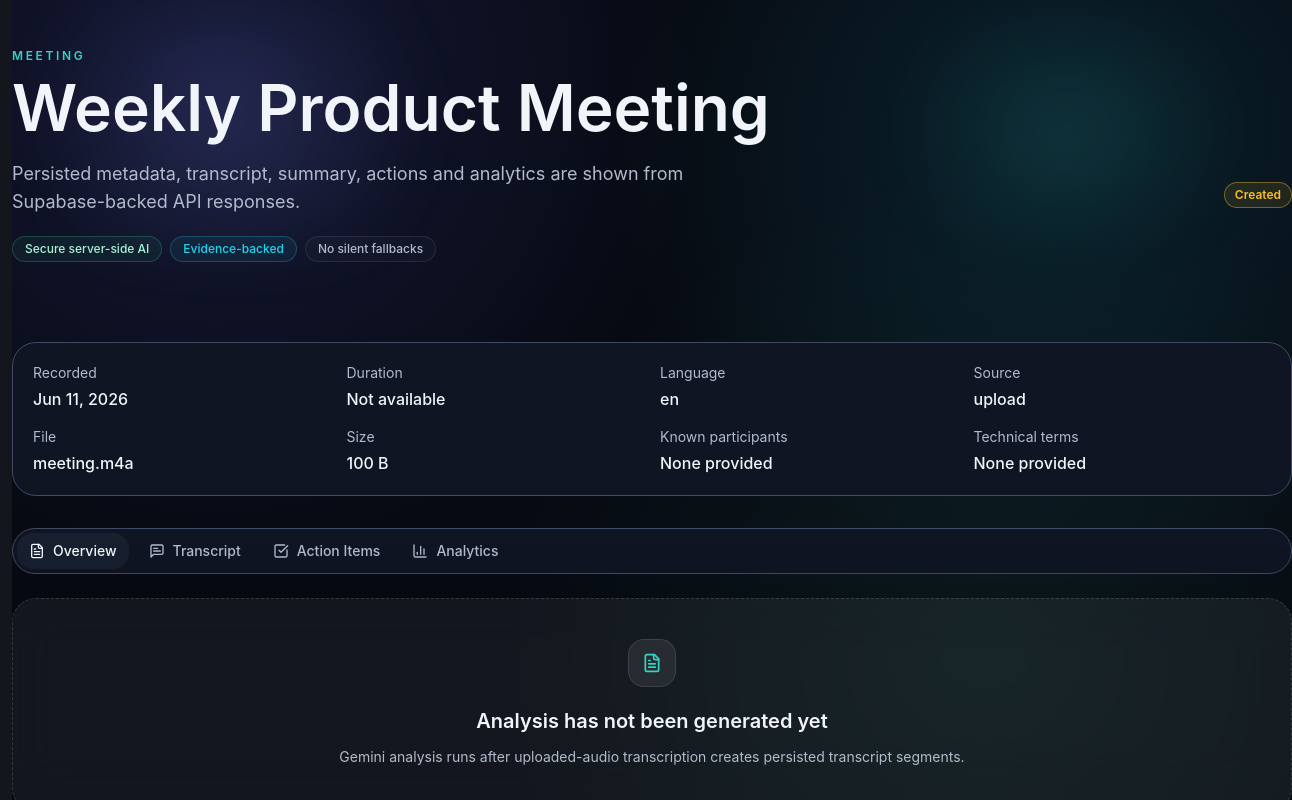
Scenario: Phase 2 frontend integration › renders meeting detail empty transcript and summary states
expect the heading "Analysis has not been generated yet" is shown: met, box [476, 707, 828, 735]
What coordinates should you click on to do the following:
click the tab "Transcript"
I would click on:
 (195, 551)
Its box is [136, 533, 253, 569].
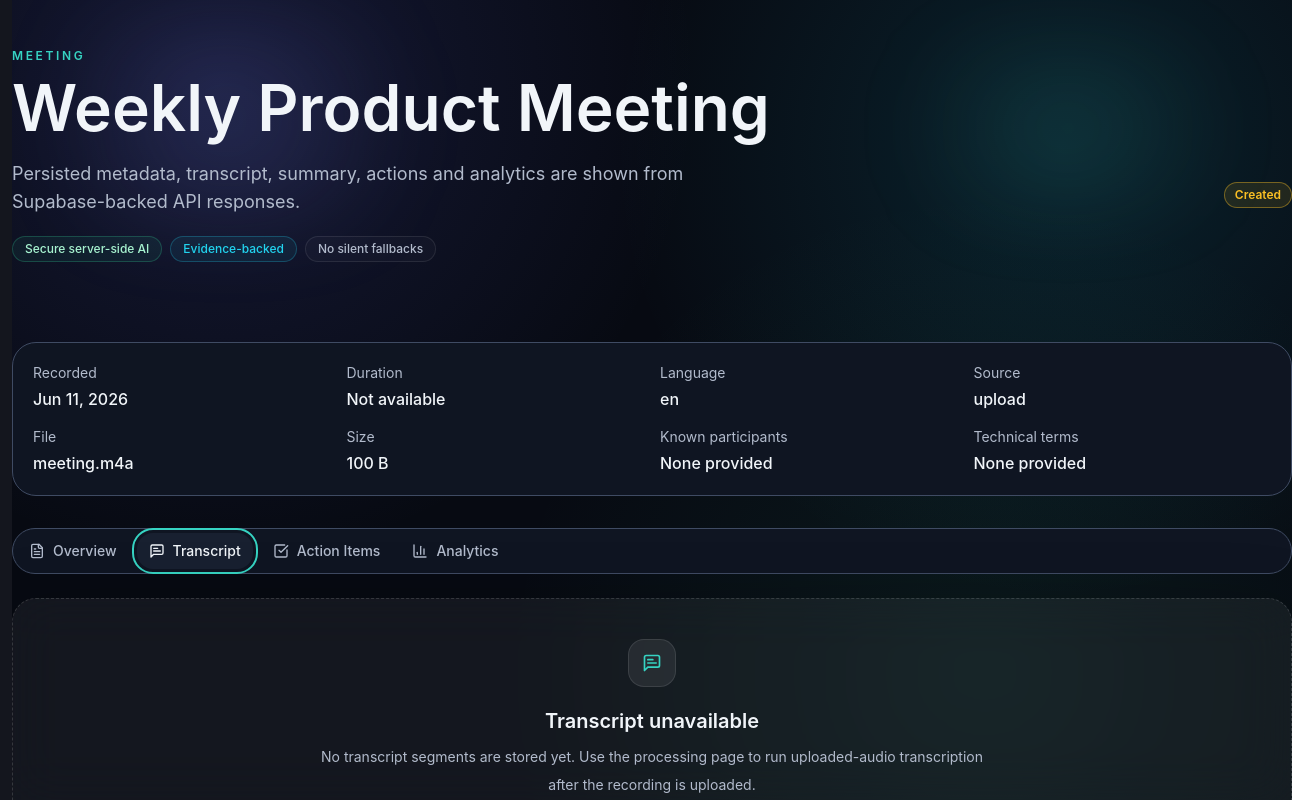
expect the heading "Transcript unavailable" is shown: met, box [545, 707, 759, 735]
